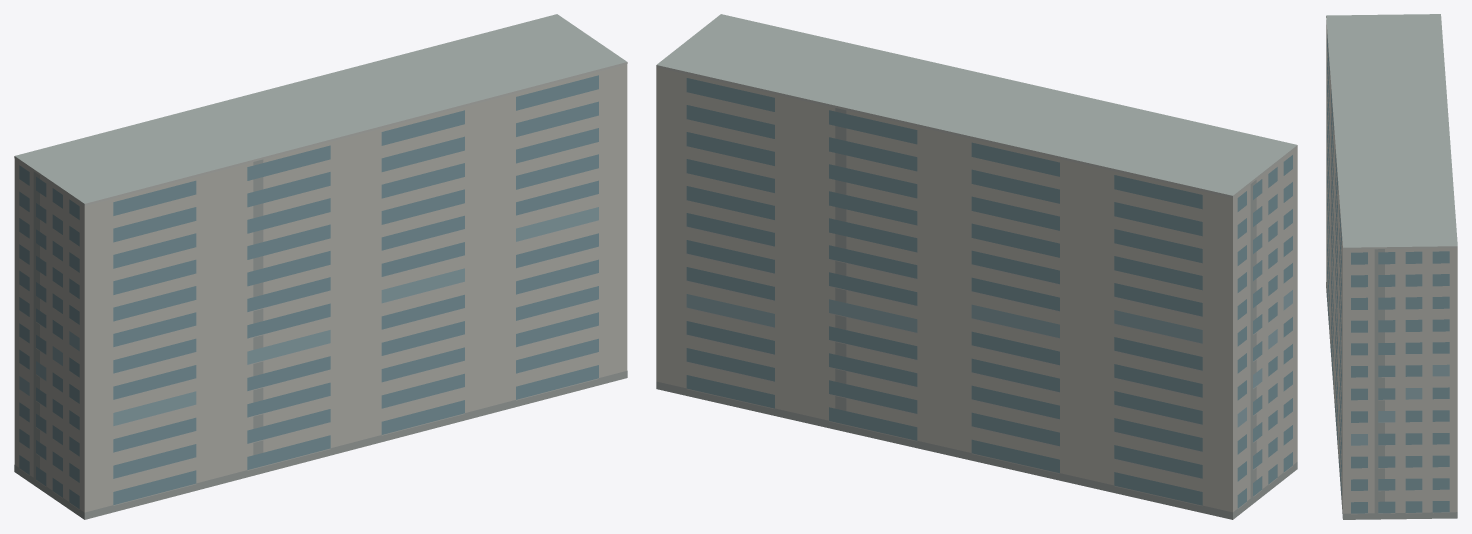
File: residential-fdddb8ed-0f68-44b2-9476-6a89c4eddf67.glb
The picture shows the model from 3 angles, left to right: view 1: azimuth 30°, elevation 25°; view 2: azimuth 150°, elevation 25°; view 3: azimuth 270°, elevation 25°; orthographic projection. The views are drawn at different scales.
Parts seen in each view (by area): view 1: residential-fdddb8ed-0f68-44b2-9476-6a89c4eddf67.tmp; view 2: residential-fdddb8ed-0f68-44b2-9476-6a89c4eddf67.tmp; view 3: residential-fdddb8ed-0f68-44b2-9476-6a89c4eddf67.tmp.
Boxes of the visible parts, x1=… form: residential-fdddb8ed-0f68-44b2-9476-6a89c4eddf67.tmp: x1=14, y1=14, x2=627, y2=519; residential-fdddb8ed-0f68-44b2-9476-6a89c4eddf67.tmp: x1=656, y1=14, x2=1297, y2=519; residential-fdddb8ed-0f68-44b2-9476-6a89c4eddf67.tmp: x1=1326, y1=14, x2=1457, y2=519.
Bounding box in the file's own units: 64.45 × 35 × 15.35.
